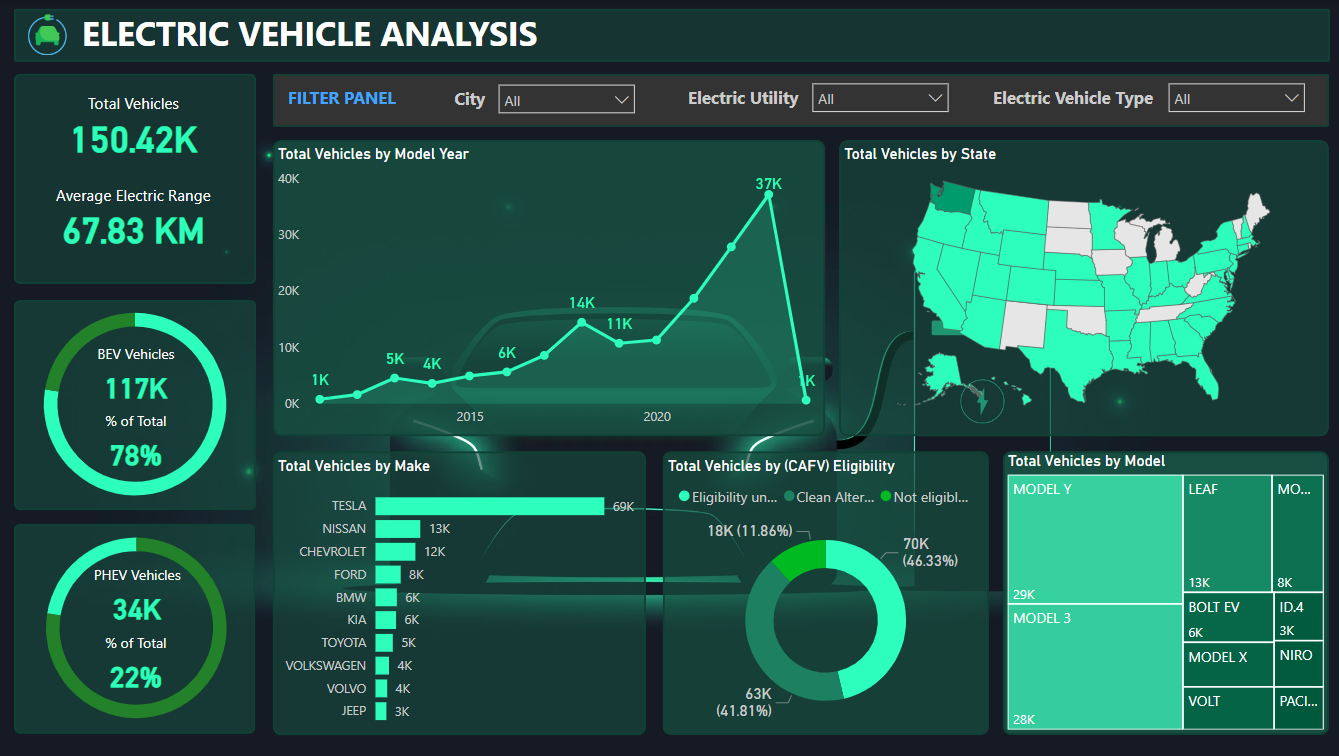

What the dashboard file says about the page in this screenshot:
{"tool":"powerbi","page":{"name":"EVA","canvas":[1280,720],"ordinal":0},"visuals":[{"type":"shape","box":[13.7,8.2,1252.8,50.8],"z":0},{"type":"textbox","box":[73.8,4.8,542.7,58.3],"z":1000},{"type":"shape","box":[13.8,70.3,230.5,200.3],"z":2000},{"type":"card","title":"Total Vehicles","fields":{"Values":["Electric_Vehicle_Population_Data.Total Vehicles"]},"box":[28.5,88.1,199,64.5],"z":3000},{"type":"card","title":"Average Electric Range","fields":{"Values":["Electric_Vehicle_Population_Data.Avg Range"]},"box":[28.5,174.6,199,64.5],"z":4000},{"type":"shape","box":[13.8,285.7,230.5,200.3],"z":5000},{"type":"shape","box":[14.3,498.6,229.7,199.9],"z":6000},{"type":"donutChart","fields":{"Category":["Electric_Vehicle_Population_Data.Electric Vehicle Type"],"Y":["Electric_Vehicle_Population_Data.Total Vehicles"]},"box":[0,271.3,259.4,227.3],"z":7000},{"type":"card","title":"BEV Vehicles","fields":{"Values":["Electric_Vehicle_Population_Data.BEV Vehicles"]},"box":[86.1,327.3,89.2,64.5],"z":8000},{"type":"card","title":"% of Total","fields":{"Values":["Electric_Vehicle_Population_Data.% of BEV"]},"box":[86.1,391.8,89.2,64.5],"z":9000},{"type":"donutChart","fields":{"Category":["Electric_Vehicle_Population_Data.Electric Vehicle Type"],"Y":["Electric_Vehicle_Population_Data.Total Vehicles"]},"box":[1.2,485.6,259.4,224.9],"z":10000},{"type":"card","title":"PHEV Vehicles","fields":{"Values":["Electric_Vehicle_Population_Data.PHEV Vehicles"]},"box":[82,537.6,98.8,64.5],"z":11000},{"type":"card","title":"% of Total","fields":{"Values":["Electric_Vehicle_Population_Data.% PHVE"]},"box":[86.1,602.1,89.2,64.5],"z":12000},{"type":"shape","box":[260.7,70,1005.8,50.8],"z":13000},{"type":"shape","box":[260.6,133.3,526,282],"z":14000},{"type":"areaChart","fields":{"Category":["Electric_Vehicle_Population_Data.Model Year"],"Y":["Electric_Vehicle_Population_Data.Total Vehicles"]},"box":[260.6,138,526,277.3],"z":15000},{"type":"shape","box":[799.7,133.3,466.5,282],"z":16000},{"type":"shapeMap","fields":{"Category":["Electric_Vehicle_Population_Data.State"],"Value":["Electric_Vehicle_Population_Data.Total Vehicles"]},"box":[800,138.6,466.6,264.8],"z":17000},{"type":"shape","box":[260.6,429.9,355.4,270.3],"z":18000},{"type":"barChart","fields":{"Category":["Electric_Vehicle_Population_Data.Make"],"Y":["Electric_Vehicle_Population_Data.Total Vehicles"]},"box":[260.5,434.3,355.8,265.4],"z":19000},{"type":"shape","box":[631.8,429.6,310.6,270.1],"z":20000},{"type":"donutChart","title":"Total Vehicles by (CAFV) Eligibility","fields":{"Category":["Electric_Vehicle_Population_Data.Clean Alternative Fuel Vehicle (CAFV) Eligibility"],"Y":["Electric_Vehicle_Population_Data.Total Vehicles"]},"box":[631.8,434.3,310.6,265.4],"z":21000},{"type":"shape","box":[955.5,429.6,310.6,270.1],"z":22000},{"type":"treemap","fields":{"Group":["Electric_Vehicle_Population_Data.Model"],"Values":["Electric_Vehicle_Population_Data.Total Vehicles"]},"box":[955.5,429.6,310.6,270.1],"z":23000},{"type":"textbox","box":[270.1,76.2,148.8,38.1],"z":24000},{"type":"slicer","fields":{"Values":["Electric_Vehicle_Population_Data.City"]},"box":[465.8,70,150,44],"z":25000},{"type":"textbox","box":[428.4,77.4,48.8,36.9],"z":26000},{"type":"slicer","fields":{"Values":["Electric_Vehicle_Population_Data.Electric Utility"]},"box":[764.5,68.8,150,46.4],"z":27000},{"type":"textbox","box":[651,76.2,135.7,38.1],"z":28000},{"type":"slicer","fields":{"Values":["Electric_Vehicle_Population_Data.Electric Vehicle Type"]},"box":[1103.2,68.8,150,46.4],"z":29000},{"type":"textbox","box":[941.4,76.2,177.3,38.1],"z":30000},{"type":"image","box":[21.4,8.3,48.8,48.8],"z":31000}]}

Visuals, with their boxes in screenshot pixels (x1, y1, x2, y2), scaled from the page's 1280x720 canvas onto the 1339x756 screenshot:
shape: 14 9 1325 62
textbox: 77 5 645 66
shape: 14 74 256 284
"Total Vehicles" card: 30 93 238 160
"Average Electric Range" card: 30 183 238 251
shape: 14 300 256 510
shape: 15 524 255 733
donutChart - Electric_Vehicle_Population_Data.Electric Vehicle Type x Electric_Vehicle_Population_Data.Total Vehicles: 0 285 271 524
"BEV Vehicles" card: 90 344 183 411
"% of Total" card: 90 411 183 479
donutChart - Electric_Vehicle_Population_Data.Electric Vehicle Type x Electric_Vehicle_Population_Data.Total Vehicles: 1 510 273 746
"PHEV Vehicles" card: 86 564 189 632
"% of Total" card: 90 632 183 700
shape: 273 74 1325 127
shape: 273 140 823 436
areaChart - Electric_Vehicle_Population_Data.Model Year x Electric_Vehicle_Population_Data.Total Vehicles: 273 145 823 436
shape: 837 140 1325 436
shapeMap - Electric_Vehicle_Population_Data.State x Electric_Vehicle_Population_Data.Total Vehicles: 837 146 1325 424
shape: 273 451 644 735
barChart - Electric_Vehicle_Population_Data.Make x Electric_Vehicle_Population_Data.Total Vehicles: 273 456 645 735
shape: 661 451 986 735
"Total Vehicles by (CAFV) Eligibility" donutChart: 661 456 986 735
shape: 1000 451 1324 735
treemap - Electric_Vehicle_Population_Data.Model x Electric_Vehicle_Population_Data.Total Vehicles: 1000 451 1324 735
textbox: 283 80 438 120
slicer - Electric_Vehicle_Population_Data.City: 487 74 644 120
textbox: 448 81 499 120
slicer - Electric_Vehicle_Population_Data.Electric Utility: 800 72 957 121
textbox: 681 80 823 120
slicer - Electric_Vehicle_Population_Data.Electric Vehicle Type: 1154 72 1311 121
textbox: 985 80 1170 120
image: 22 9 73 60
